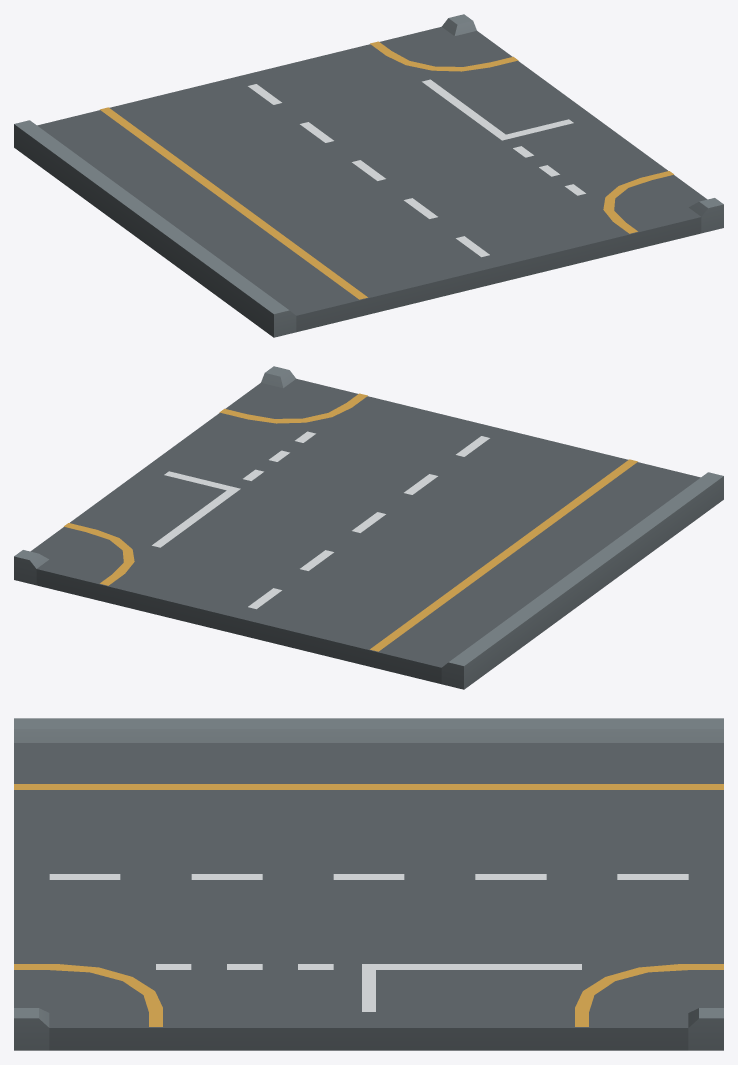
Rendered from road_tsplit.obj.
3 views of the same model, one above another, from view 1: azimuth 30°, elevation 25°; view 2: azimuth 150°, elevation 25°; view 3: azimuth 270°, elevation 25° (orthographic). The views are drawn at different scales.
Bounding box in the file's own units: 2 × 0.1 × 2.
1 material, 1 textured.
